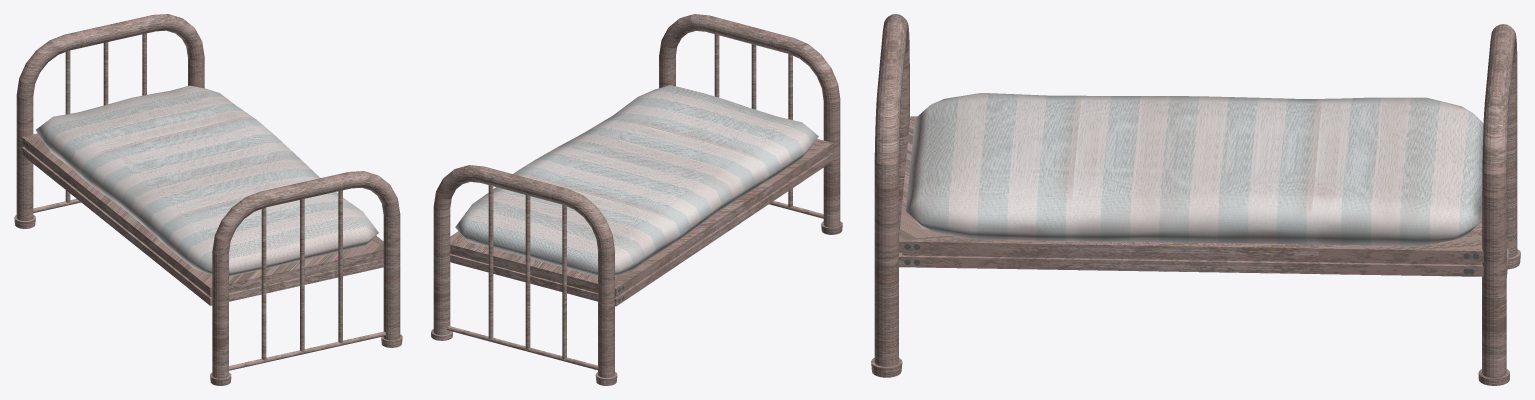
The model's file is bed_old.fbx.
3 renders of one model, left to right at view 1: azimuth 30°, elevation 25°; view 2: azimuth 150°, elevation 25°; view 3: azimuth 270°, elevation 25°, orthographic. The views are drawn at different scales.
Parts seen in each view (by area): view 1: bed_old_text:pCube1, bed_old_text:polySurface30, bed_old_text:polySurface28, bed_old_text:polySurface29, bed_old_text:polySurface27, bed_old_text:polySurface26, bed_old_text:polySurface10, bed_old_text:polySurface11, bed_old_text:polySurface12, bed_old_text:polySurface13, bed_old_text:polySurface7, bed_old_text:polySurface6; view 2: bed_old_text:pCube1, bed_old_text:polySurface30, bed_old_text:polySurface26, bed_old_text:polySurface27, bed_old_text:polySurface29, bed_old_text:polySurface28, bed_old_text:polySurface8, bed_old_text:polySurface6, bed_old_text:polySurface9, bed_old_text:polySurface7, bed_old_text:polySurface10, bed_old_text:polySurface13 (+1 smaller); view 3: bed_old_text:pCube1, bed_old_text:polySurface30, bed_old_text:polySurface28, bed_old_text:polySurface26, bed_old_text:polySurface27, bed_old_text:polySurface29.
Part boxes in pixels (<box>): bed_old_text:pCube1: <box>36,85,378,276</box>; bed_old_text:polySurface30: <box>21,133,383,305</box>; bed_old_text:polySurface28: <box>262,171,402,347</box>; bed_old_text:polySurface29: <box>210,191,266,385</box>; bed_old_text:polySurface27: <box>14,34,70,228</box>; bed_old_text:polySurface26: <box>66,14,204,88</box>; bed_old_text:polySurface10: <box>261,207,266,360</box>; bed_old_text:polySurface11: <box>229,331,385,370</box>; bed_old_text:polySurface12: <box>338,190,342,343</box>; bed_old_text:polySurface13: <box>300,199,304,351</box>; bed_old_text:polySurface7: <box>65,50,70,202</box>; bed_old_text:polySurface6: <box>103,42,108,105</box>; bed_old_text:pCube1: <box>455,85,818,276</box>; bed_old_text:polySurface30: <box>450,139,833,306</box>; bed_old_text:polySurface26: <box>431,165,567,340</box>; bed_old_text:polySurface27: <box>561,189,617,385</box>; bed_old_text:polySurface29: <box>787,38,842,234</box>; bed_old_text:polySurface28: <box>659,14,792,88</box>; bed_old_text:polySurface8: <box>488,185,493,339</box>; bed_old_text:polySurface6: <box>525,195,530,349</box>; bed_old_text:polySurface9: <box>447,326,597,370</box>; bed_old_text:polySurface7: <box>562,205,566,358</box>; bed_old_text:polySurface10: <box>788,54,792,207</box>; bed_old_text:polySurface13: <box>751,44,756,109</box>; bed_old_text:pCube1: <box>906,93,1483,246</box>; bed_old_text:polySurface30: <box>898,116,1483,276</box>; bed_old_text:polySurface28: <box>871,21,906,377</box>; bed_old_text:polySurface26: <box>1478,31,1514,385</box>; bed_old_text:polySurface27: <box>1491,24,1520,269</box>; bed_old_text:polySurface29: <box>883,14,909,236</box>.
Size of the model in its own units: 1.72 by 1.48 by 3.33.
Materials: 3 (2 with a texture image).
